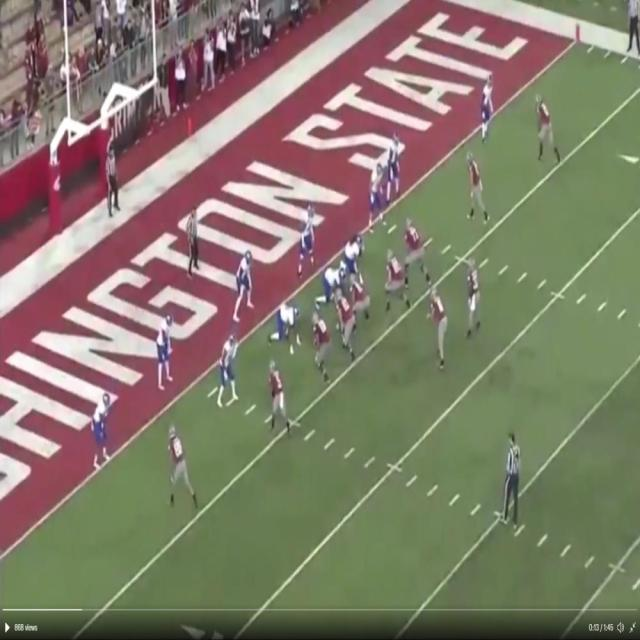center: (349, 270, 366, 323)
db: (90, 394, 113, 468), (153, 317, 172, 392), (388, 129, 403, 193), (478, 81, 494, 138)
lb: (364, 162, 385, 228), (220, 333, 240, 399), (233, 250, 250, 316), (297, 218, 314, 270)
qb: (431, 290, 448, 366)
skill: (171, 427, 193, 500), (469, 156, 487, 226), (536, 100, 556, 159), (268, 365, 288, 421), (468, 262, 482, 326)
